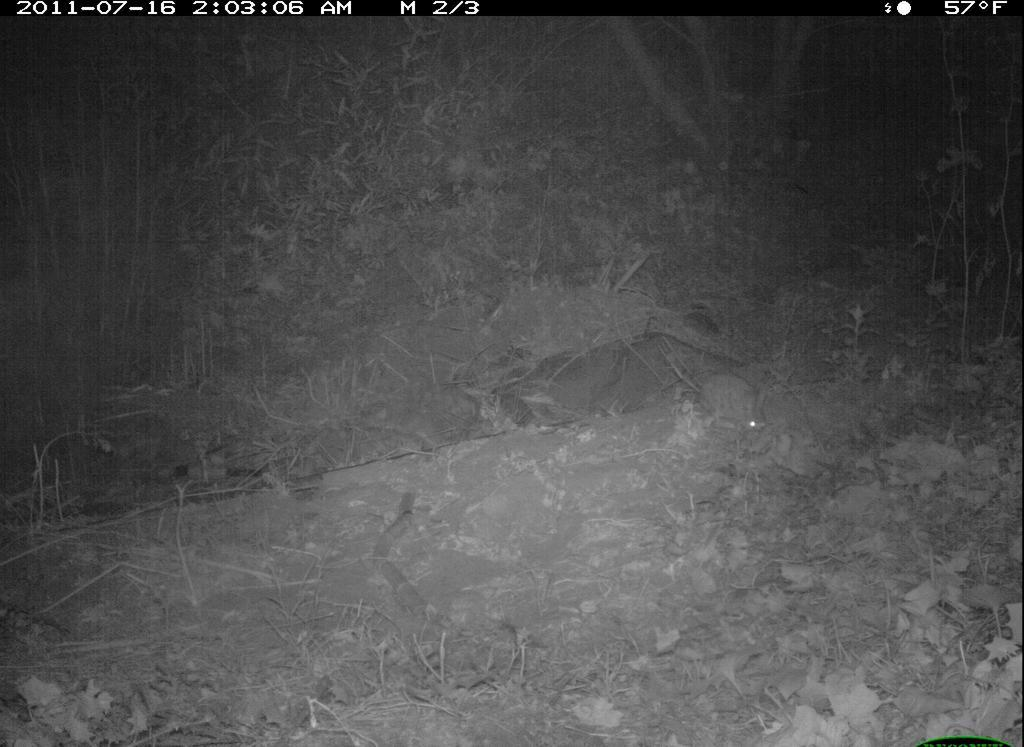rabbit: (680, 351, 801, 466)
